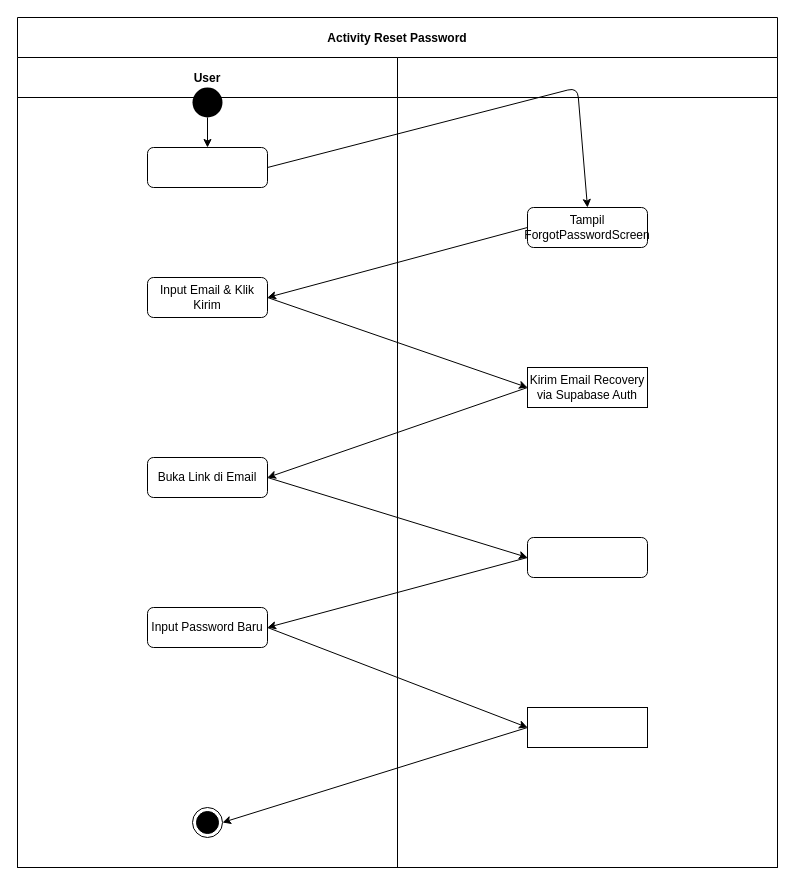
Image size: 795x885. Some labels were removed from this diagram. Here are the shapes that lost their labels. From the top down, the box of each, then its label:
(146, 146, 268, 188): Klik 'Lupa Password?'
(396, 56, 778, 868): Sistem
(526, 536, 648, 578): Deep Link Diterima App & Buka ResetScreen
(526, 706, 648, 748): Update Password di Supabase Auth
